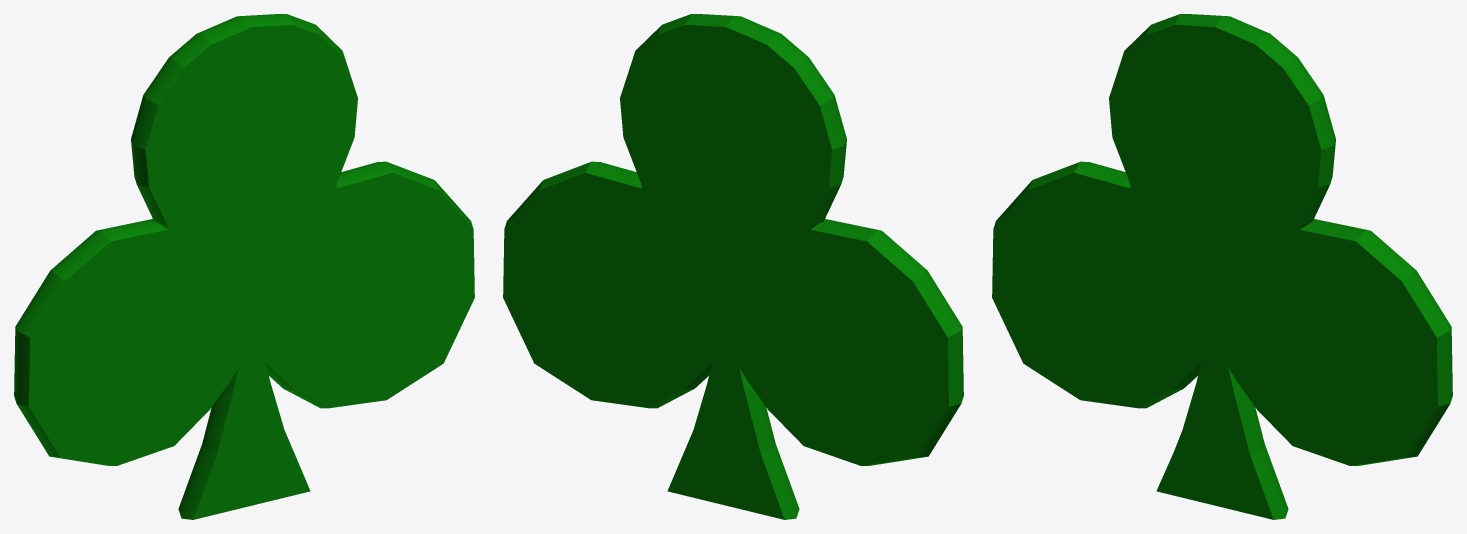
Rendered from clover.fbx.
The picture shows the model from 3 angles, left to right: view 1: azimuth 30°, elevation 25°; view 2: azimuth 150°, elevation 25°; view 3: azimuth 330°, elevation 25°; orthographic projection.
Parts seen in each view (by area): view 1: cardSuit:club; view 2: cardSuit:club; view 3: cardSuit:club.
Part boxes in pixels (x1,y1,x2,y2): cardSuit:club: (14, 14, 474, 519); cardSuit:club: (503, 14, 963, 519); cardSuit:club: (992, 14, 1452, 519).
Bounding box in the file's own units: 1.78 × 1.82 × 0.1.
